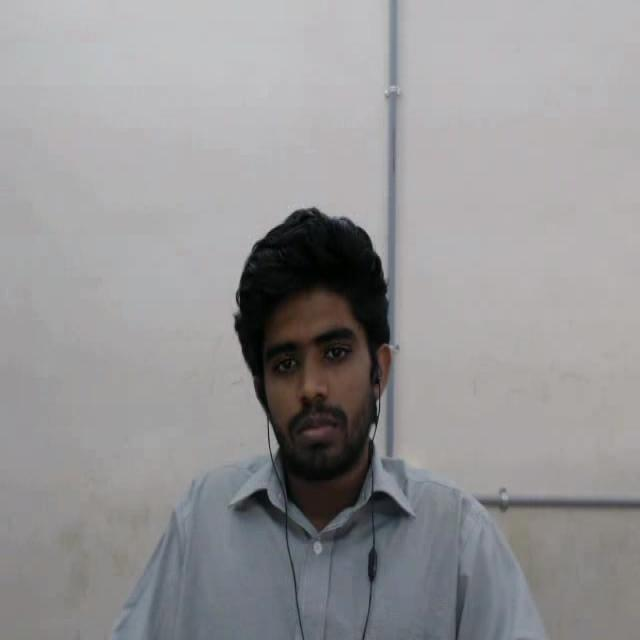Engaged: (216, 199, 412, 504)
